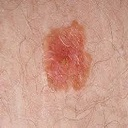Actinic: (40, 18, 93, 93)
